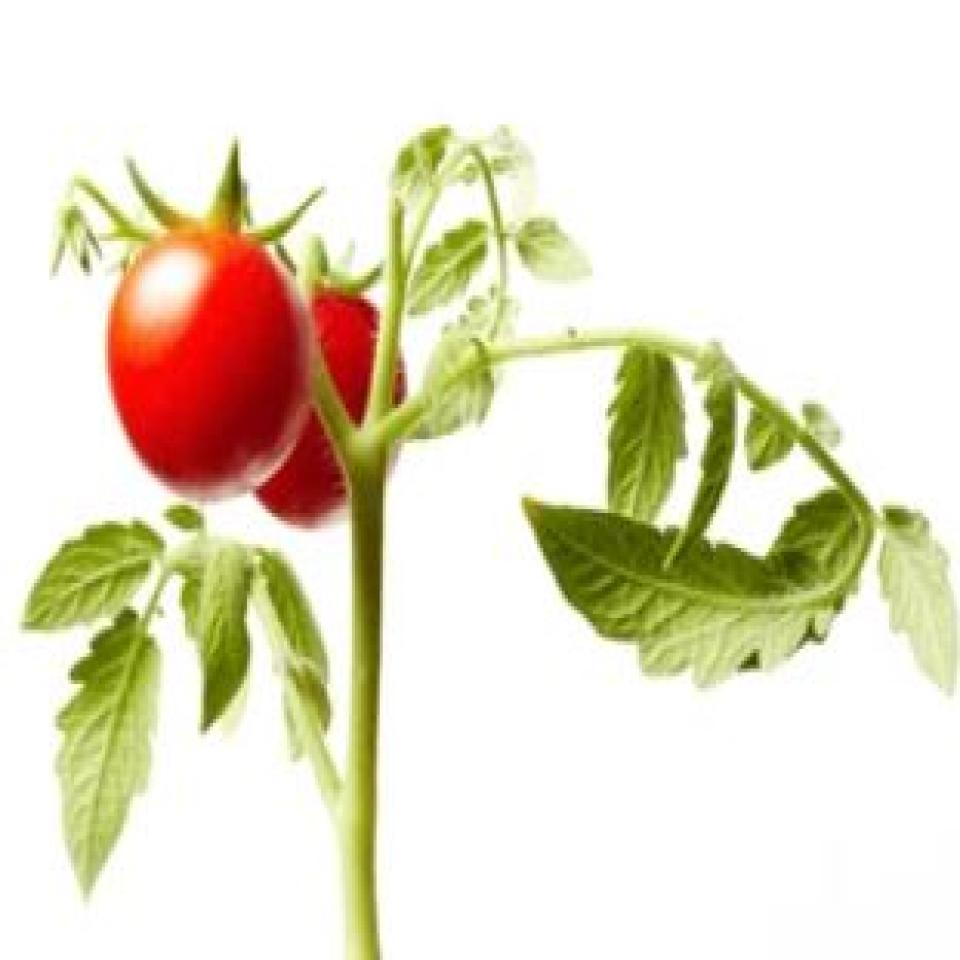Healthy: (127, 188, 305, 518), (264, 240, 414, 551)
